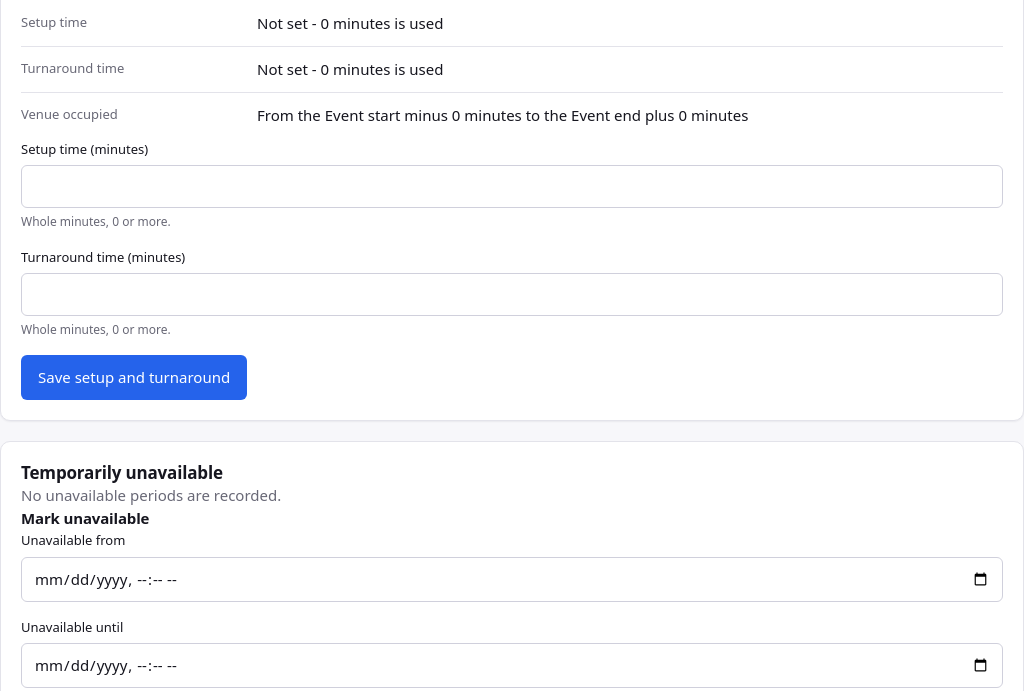
Test: SCRUM-78 setup and turnaround › AC2: empty, negative and non-whole values are blocked before anything is sent
(page scrolled)
Click the button "Save setup and turnaround".
click(134, 377)  # box [21,354,247,400]
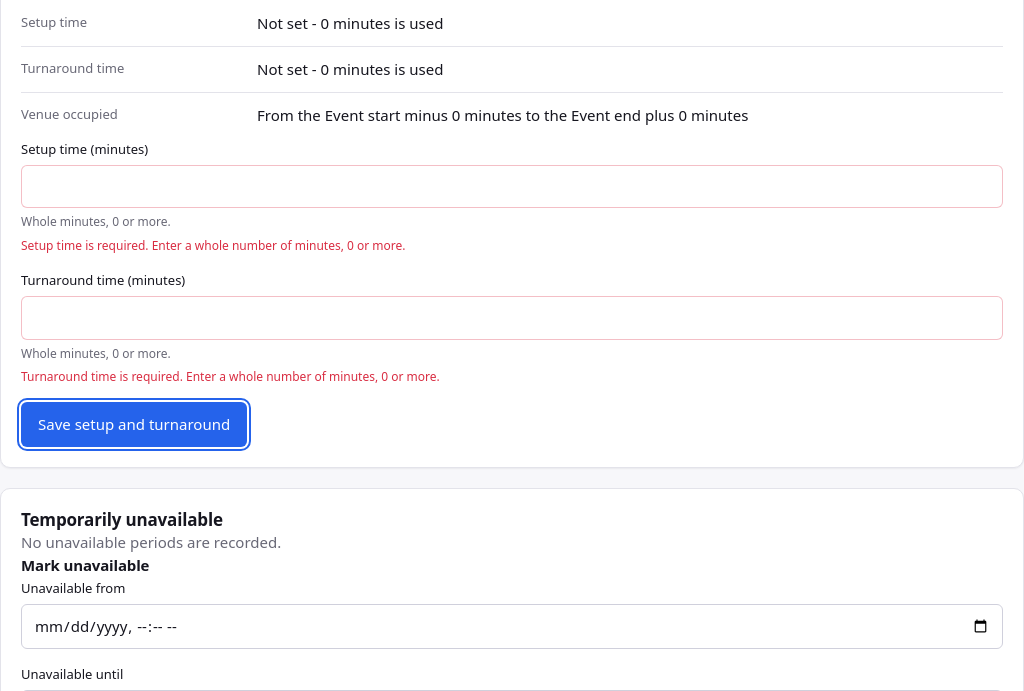
Type "-5" into the field labelled "Setup time (minutes)".
click(512, 186); type("-5")  # box [21,165,1003,208]
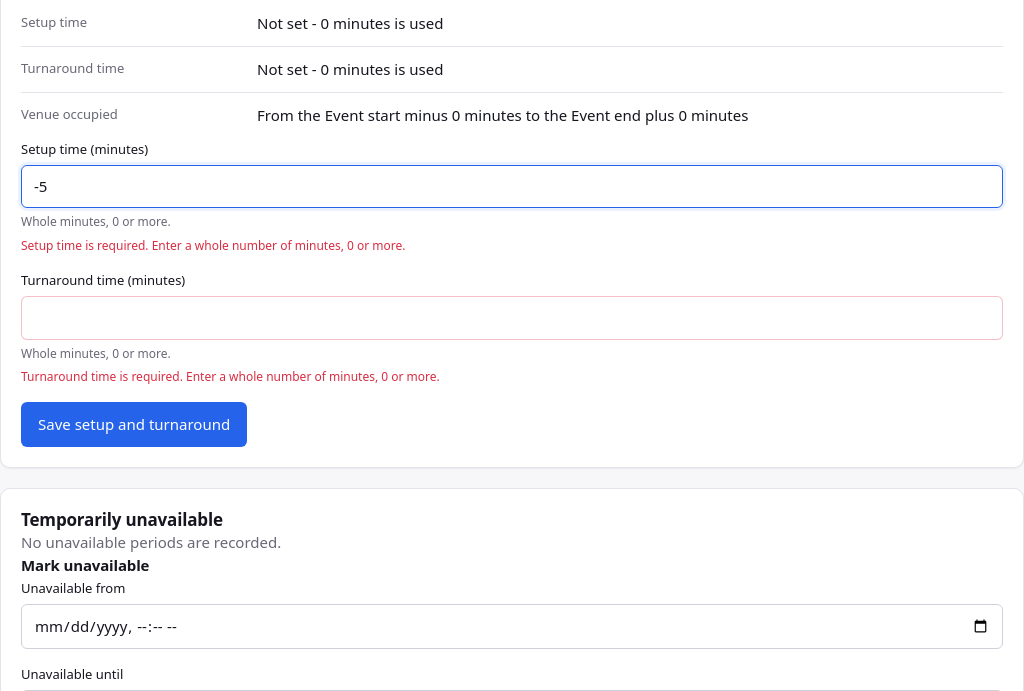
Type "1.5" into the field labelled "Turnaround time (minutes)".
click(512, 318); type("1.5")  # box [21,296,1003,340]
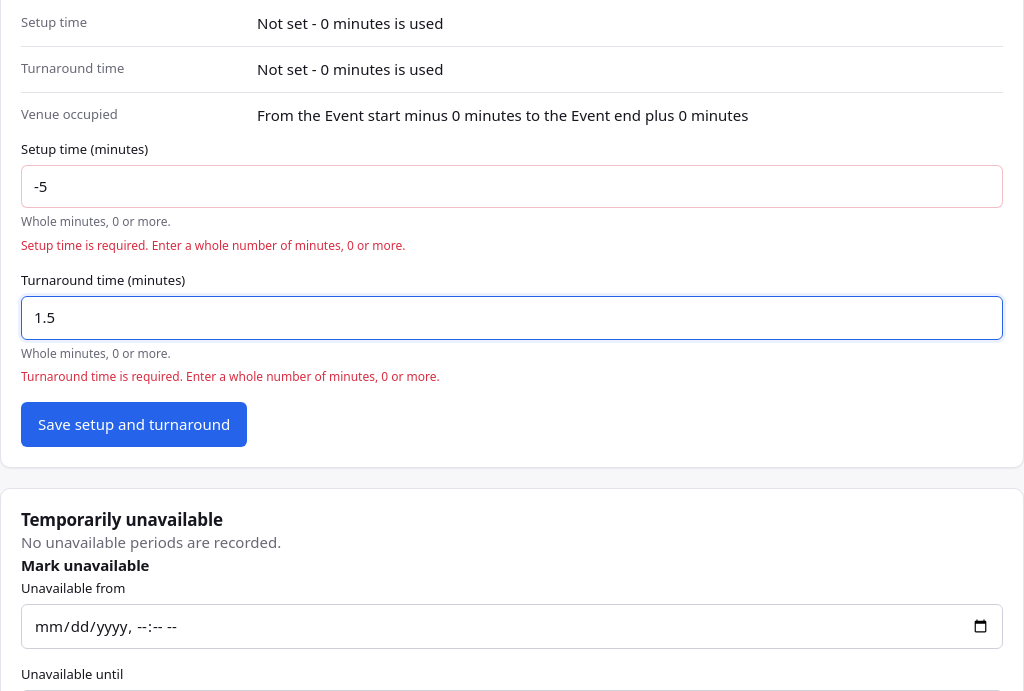
Click the button "Save setup and turnaround".
click(134, 424)  # box [21,402,247,447]
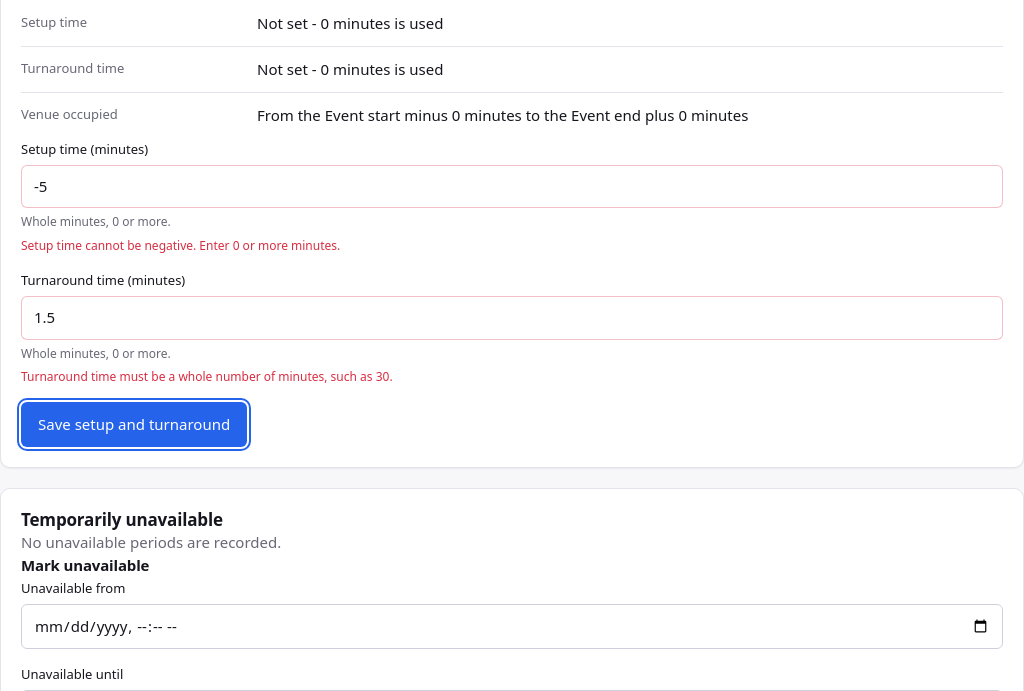
Expected: the message "Turnaround time must be a whole number of minutes, such as 30." is shown, [21,368,393,385]
Expected: the message "Setup time cannot be negative. Enter 0 or more minutes." is shown, [21,236,340,254]
